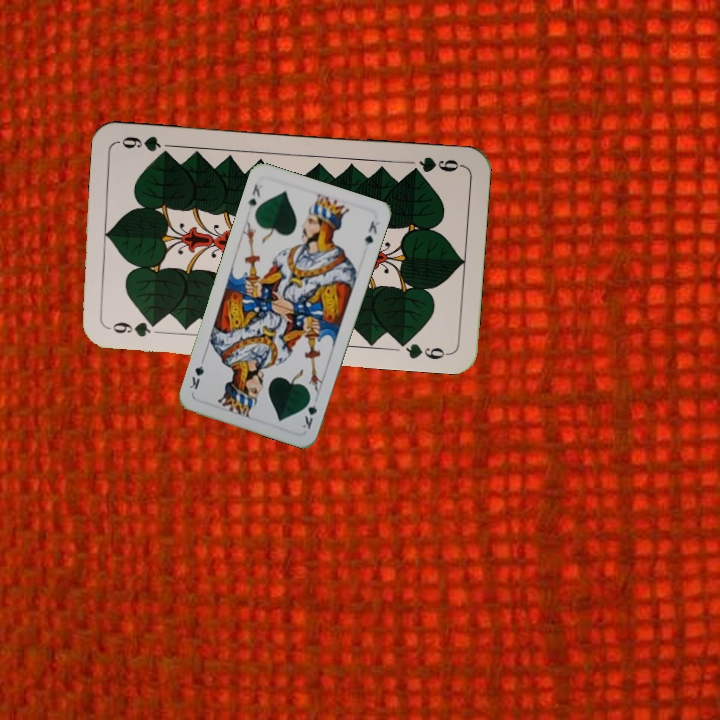G9: (405, 152, 465, 177), (103, 317, 162, 340)
GK: (298, 392, 319, 432), (244, 180, 263, 212)
